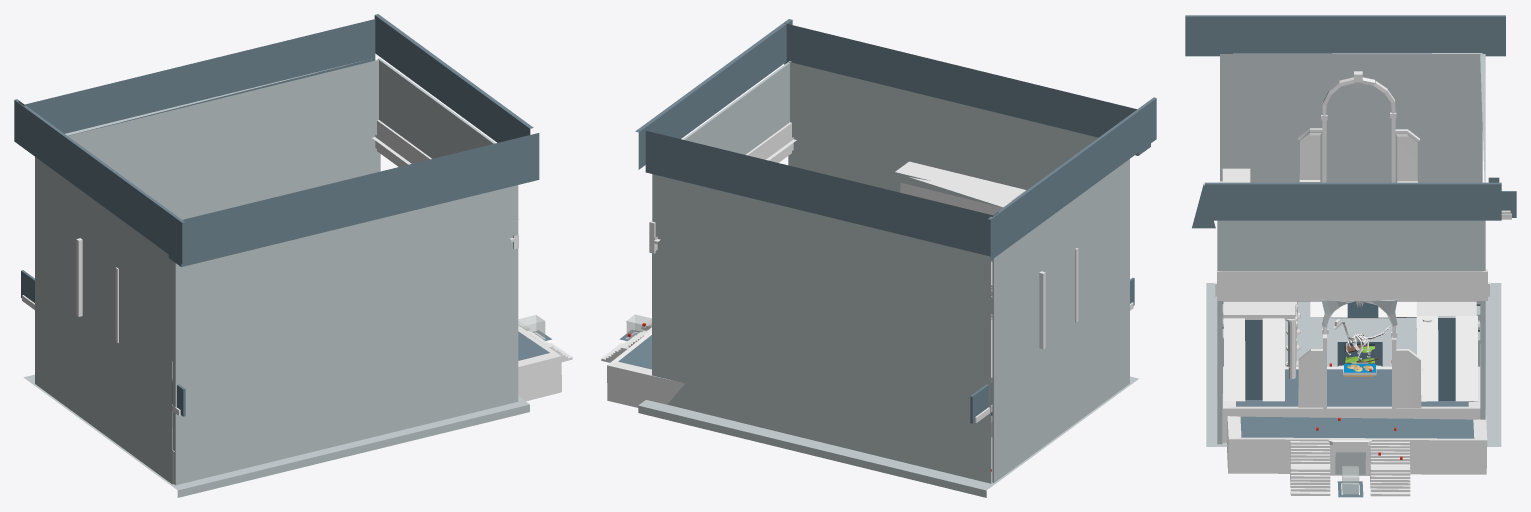
The model's file is loda.glb.
The picture shows the model from 3 angles, left to right: view 1: azimuth 30°, elevation 25°; view 2: azimuth 150°, elevation 25°; view 3: azimuth 270°, elevation 25°; orthographic projection. The views are drawn at different scales.
Parts seen in each view (by area): view 1: group853941034, group395243803, group156993652, group1953011220, group1925979723, group689543294, group436196863, group793193501, group558278867, group1166085555.001, group1676229897, group149663869; view 2: group156993652, group395243803, group853941034, group1925979723, group1953011220, group689543294, group558278867, group436196863, group793193501, group1166085555.001, group1152385336, group736884139 (+3 smaller); view 3: group395243803, group1166085555.001, group793193501, group689543294, group436196863, group558278867, group1676229897, group1166085555, group1319333405.001, group1319333405.002, group391671949, group149663869 (+10 smaller).
Boxes of the visible parts, x1,y1,x2,y2 form: group853941034: (172,185,518,485); group395243803: (35,157,172,484); group156993652: (65,60,380,219); group1953011220: (168,133,539,266); group1925979723: (18,19,375,135); group689543294: (14,99,184,263); group436196863: (374,14,533,142); group793193501: (377,58,495,158); group558278867: (23,374,529,497); group1166085555.001: (518,315,572,401); group1676229897: (377,120,519,220); group149663869: (76,238,118,342); group156993652: (652,174,991,483); group395243803: (992,159,1129,482); group853941034: (788,62,1098,207); group1925979723: (645,130,998,256); group1953011220: (784,23,1150,155); group689543294: (988,97,1156,260); group558278867: (638,376,1138,497); group436196863: (635,19,792,169); group793193501: (682,61,791,154); group1166085555.001: (601,314,684,407); group1152385336: (895,161,1026,200); group736884139: (900,177,1011,261); group395243803: (1220,53,1482,182); group1166085555.001: (1227,409,1487,497); group793193501: (1219,220,1482,301); group689543294: (1185,15,1505,56); group436196863: (1204,182,1501,220); group558278867: (1206,283,1501,446); group1676229897: (1217,269,1487,300); group1166085555: (1223,360,1480,442); group1319333405.001: (1223,318,1284,401); group1319333405.002: (1416,315,1477,401); group391671949: (1298,301,1421,411); group149663869: (1297,71,1420,182).
Bounding box in the file's own units: 11.92 × 7.31 × 7.96.
